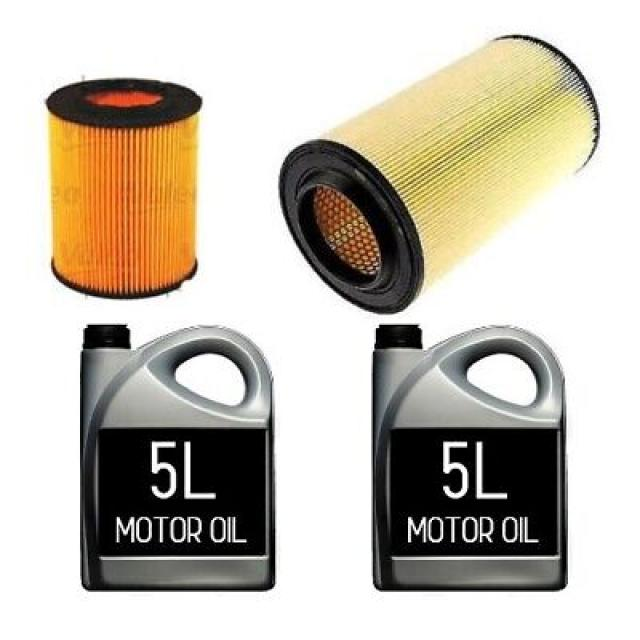motor_oil: (362, 318, 574, 600), (73, 315, 280, 603)
oil_filter: (276, 26, 609, 314), (45, 77, 206, 300)
